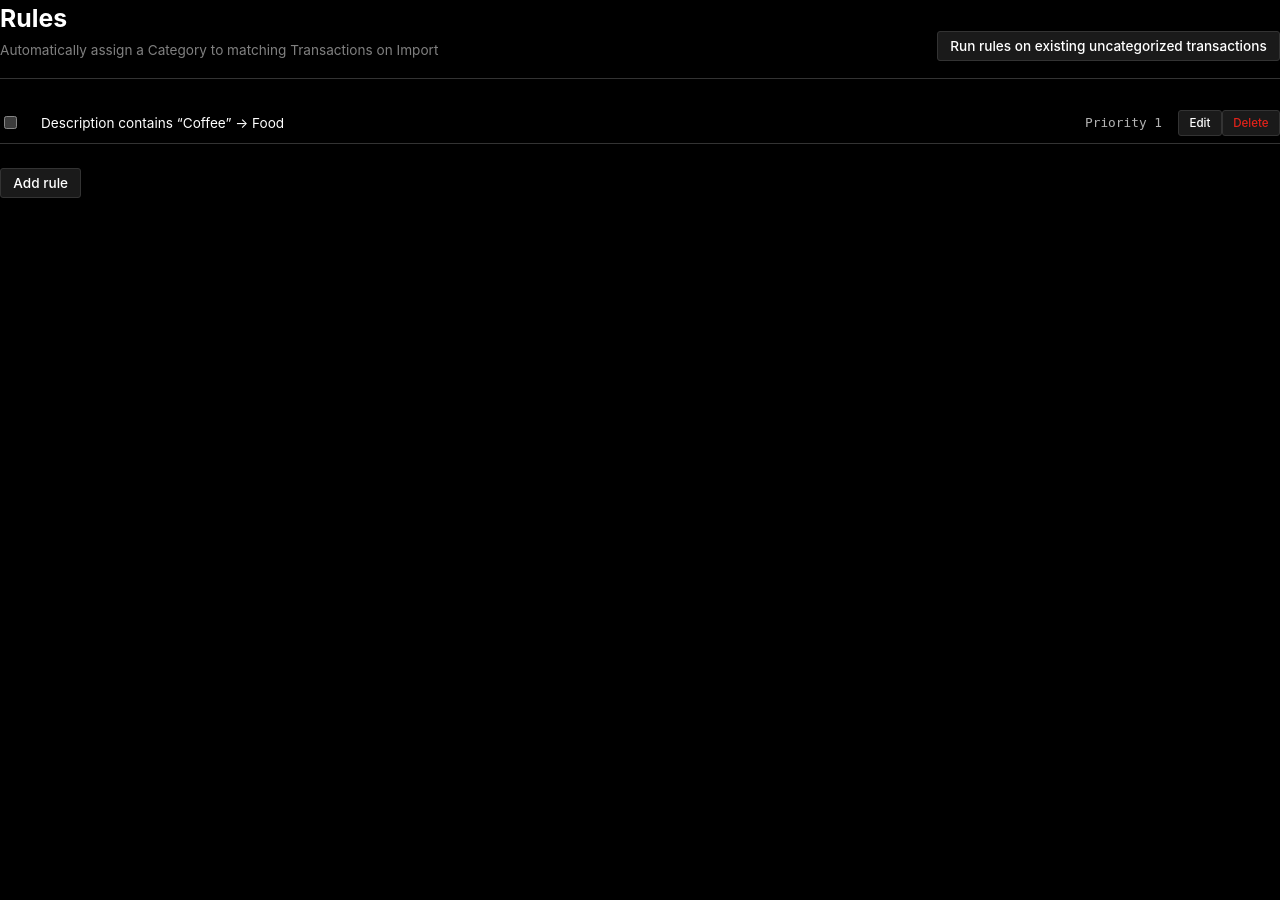
Test: RulesScreen delete confirmation › clicking Delete opens a confirmation panel with a verb-phrase label, not a generic one
Check: the text "Description contains “Coffee” → Food" is shown, box [41,115,284,131]
Click the button "Delete" at (1251, 123), box [1222,110,1279,136]
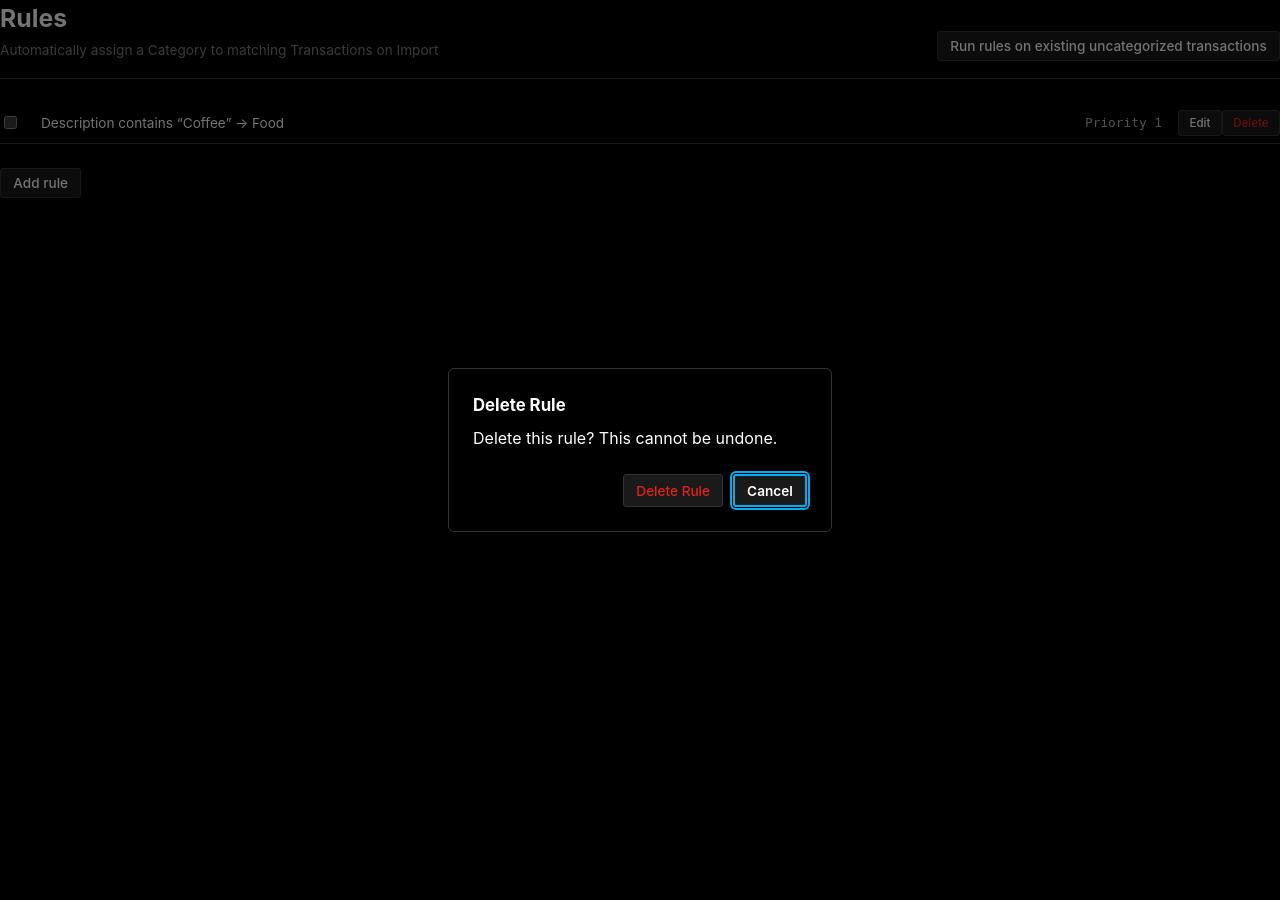
Check: the heading "Delete Rule" is shown, box [473,395,566,415]
Check: the button "Delete Rule" is shown, box [623,474,723,507]
